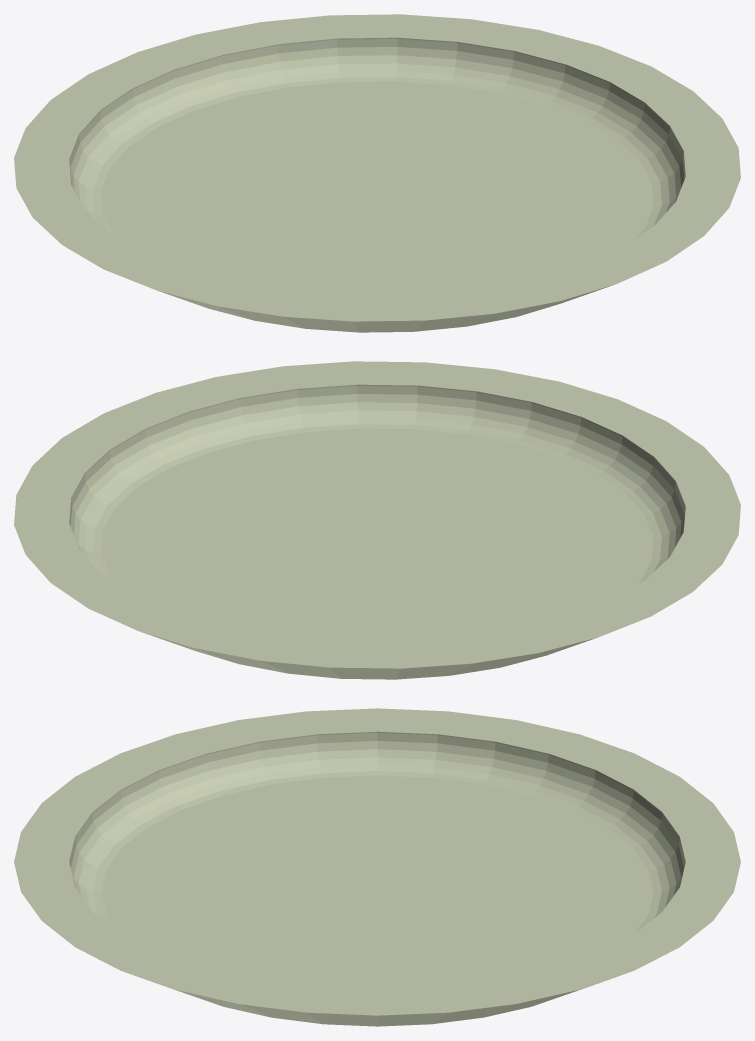
Rendered from Prato1.fbx.
The picture shows the model from 3 angles, top to bottom: view 1: azimuth 30°, elevation 25°; view 2: azimuth 150°, elevation 25°; view 3: azimuth 270°, elevation 25°; orthographic projection.
Visible parts, largest first — view 1: Circle.001; view 2: Circle.001; view 3: Circle.001.
Part boxes in pixels (box(x1,y1,x2,y2)): Circle.001: box(14, 14, 740, 332); Circle.001: box(14, 361, 740, 679); Circle.001: box(14, 708, 740, 1026).
Size of the model in its own units: 200 by 14.42 by 200.
